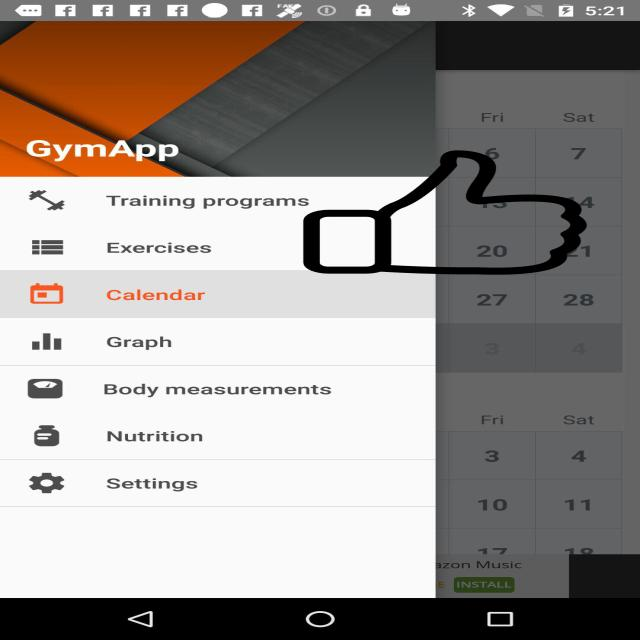privacy zuckering: (299, 150, 591, 275)
